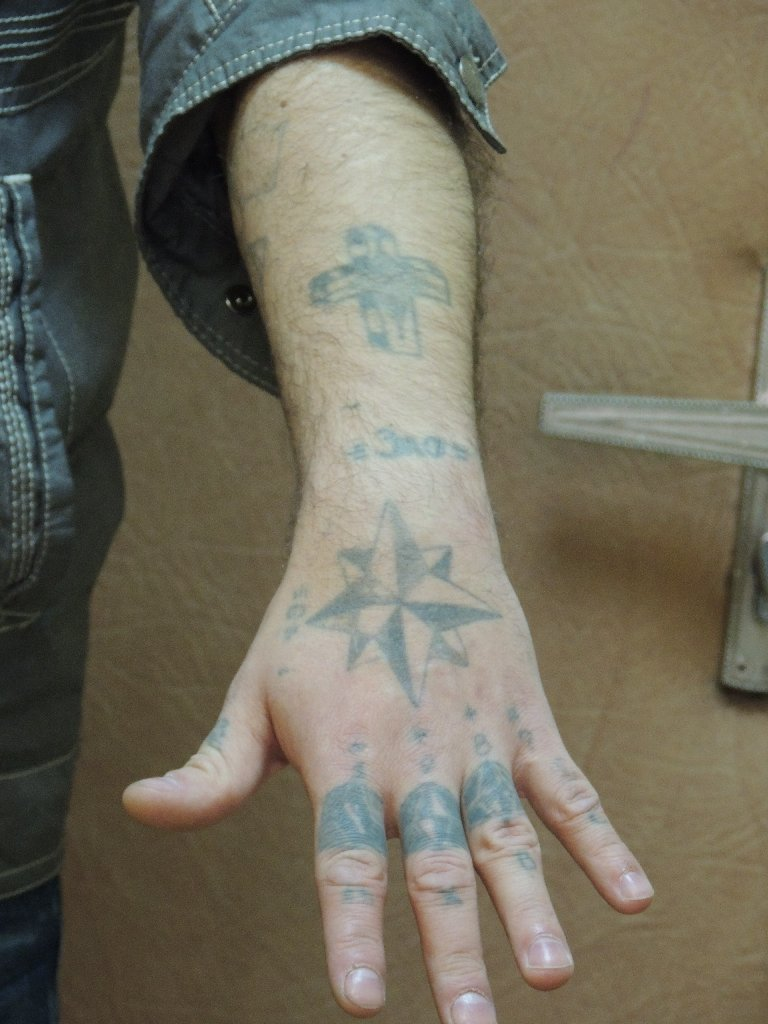tatu3_bukva: (275, 583, 315, 639), (507, 845, 542, 875), (467, 729, 499, 761)
tatu9_krest: (302, 217, 462, 377)
